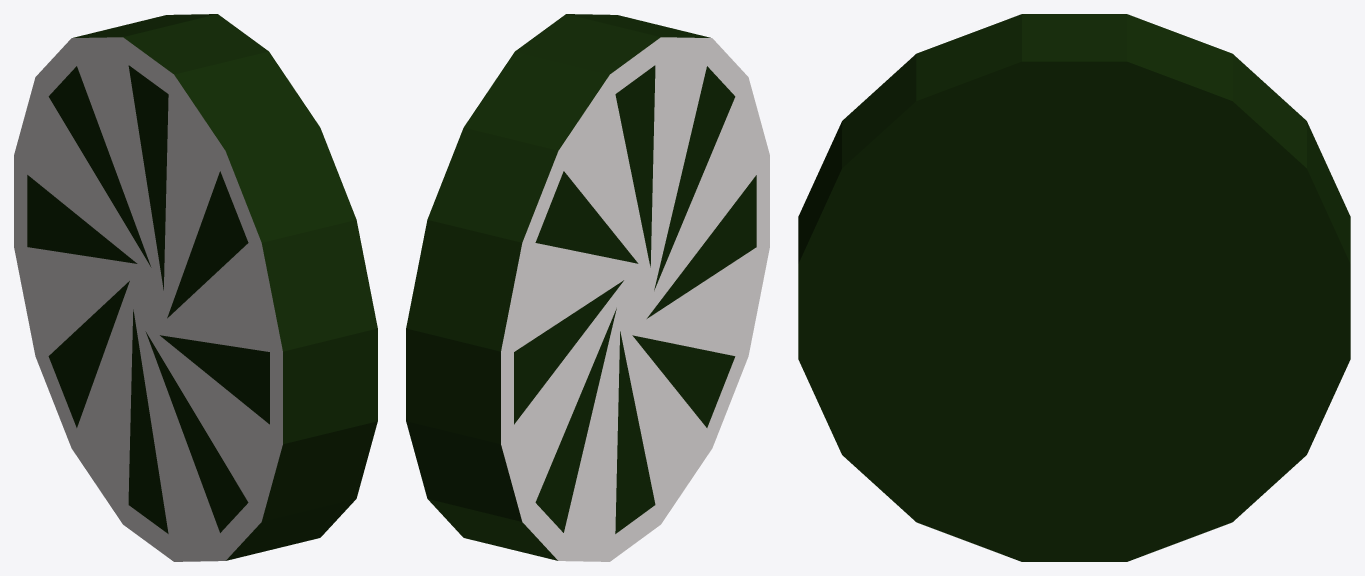
File: Train_SmallWheel.obj
3 renders of one model, left to right at view 1: azimuth 30°, elevation 25°; view 2: azimuth 150°, elevation 25°; view 3: azimuth 270°, elevation 25°, orthographic. The views are drawn at different scales.
Visible parts, largest first — view 1: Cylinder.012_Material.001; view 2: Cylinder.012_Material.001; view 3: Cylinder.012_Material.001.
Boxes of the visible parts, box(x1,y1,x2,y2) form: Cylinder.012_Material.001: box(14, 14, 377, 561); Cylinder.012_Material.001: box(406, 14, 769, 561); Cylinder.012_Material.001: box(798, 14, 1350, 561).
Size of the model in its own units: 0.1181 by 0.5793 by 0.5793.
